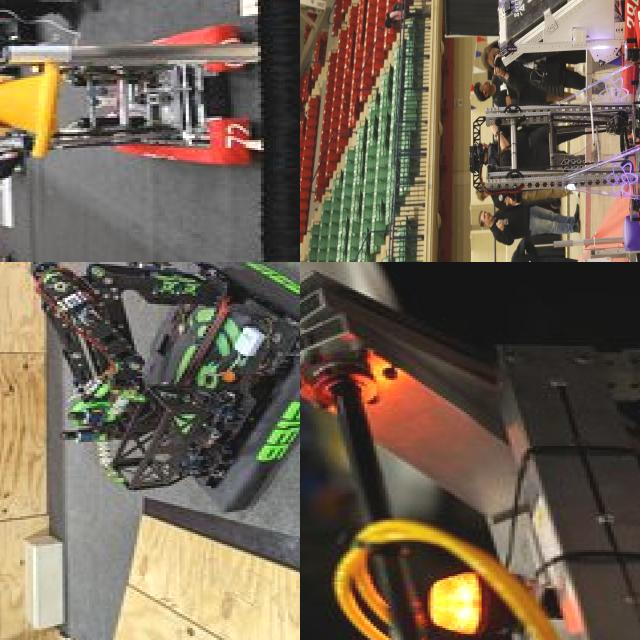FRC-Robots: (341, 328, 640, 640), (13, 262, 300, 518), (475, 0, 640, 262), (0, 16, 250, 183), (478, 0, 640, 119)
